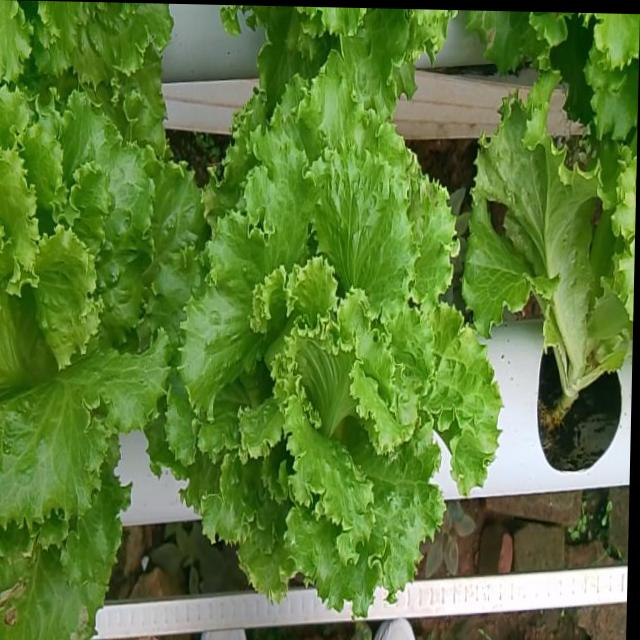Mature: (156, 88, 491, 628), (0, 102, 194, 544)
